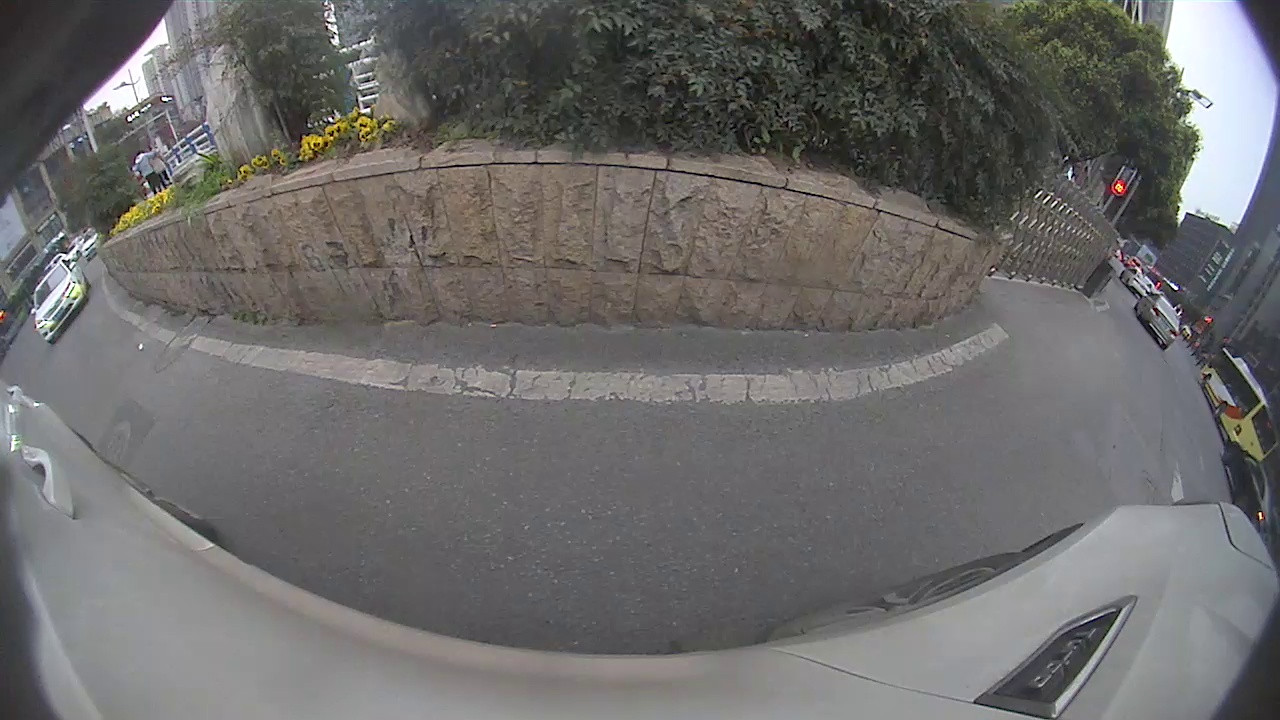bus: (1198, 345, 1277, 459)
car: (28, 257, 93, 344), (1134, 289, 1184, 352)
